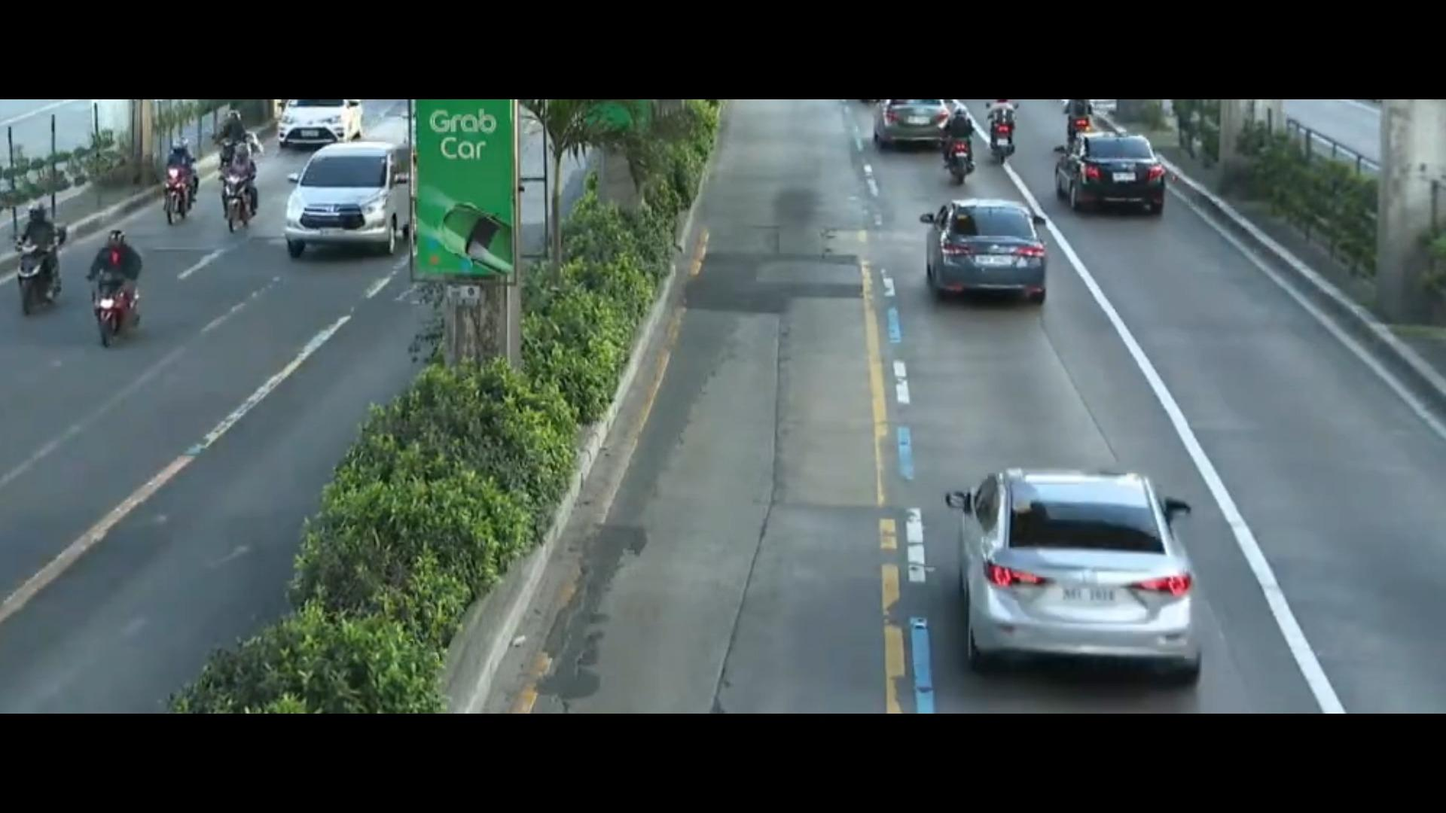Motorcycle: (86, 222, 155, 350), (199, 140, 285, 236), (6, 189, 63, 322), (154, 128, 209, 226), (931, 111, 985, 192), (979, 104, 1028, 171), (1051, 96, 1104, 146), (203, 115, 255, 164)
SUV: (271, 126, 437, 281)
Sedan: (932, 435, 1230, 690), (914, 187, 1084, 335), (1048, 125, 1173, 232)
